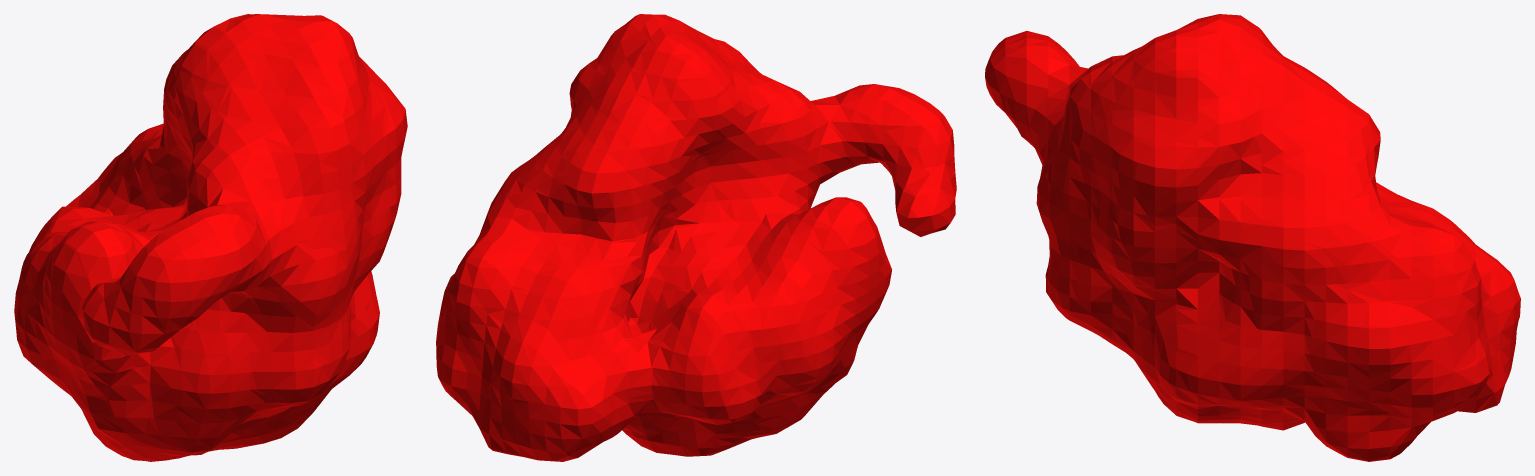
The model's file is srkA_coarse.dae.
The picture shows the model from 3 angles, left to right: view 1: azimuth 30°, elevation 25°; view 2: azimuth 150°, elevation 25°; view 3: azimuth 270°, elevation 25°; orthographic projection. The views are drawn at different scales.
Visible parts, largest first — view 1: srkA; view 2: srkA; view 3: srkA.
Part boxes in pixels (x1,y1,x2,y2): srkA: (14, 14, 407, 461); srkA: (436, 14, 956, 461); srkA: (985, 14, 1520, 461).
Bounding box in the file's own units: 56.69 × 58.34 × 67.12.
